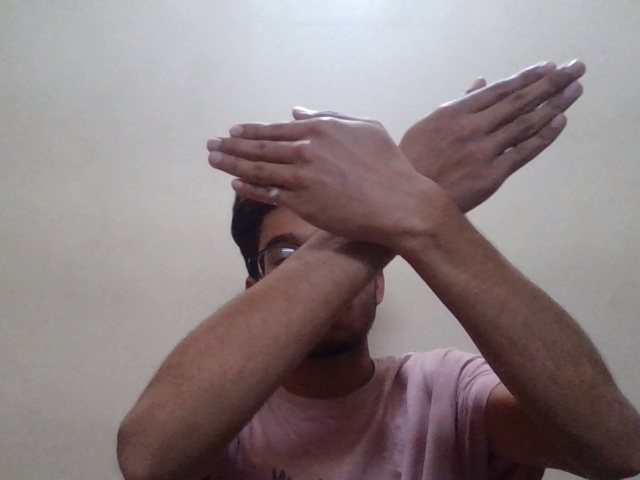feel: (184, 54, 614, 307)
